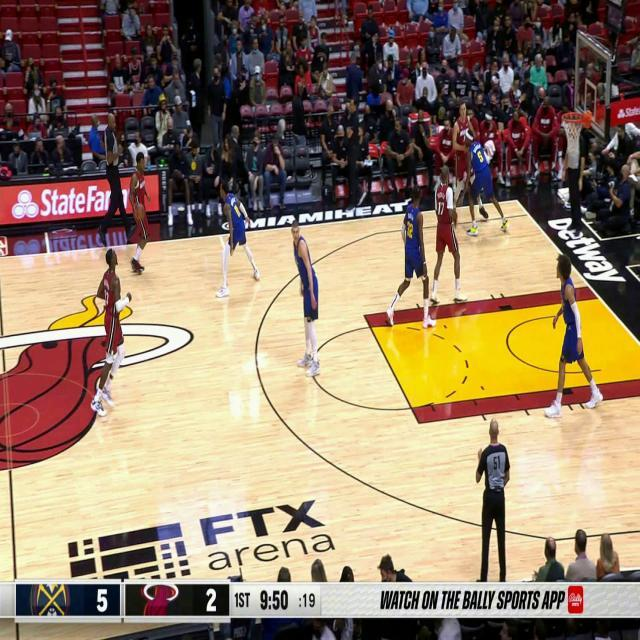rim: (135, 203, 145, 220)
